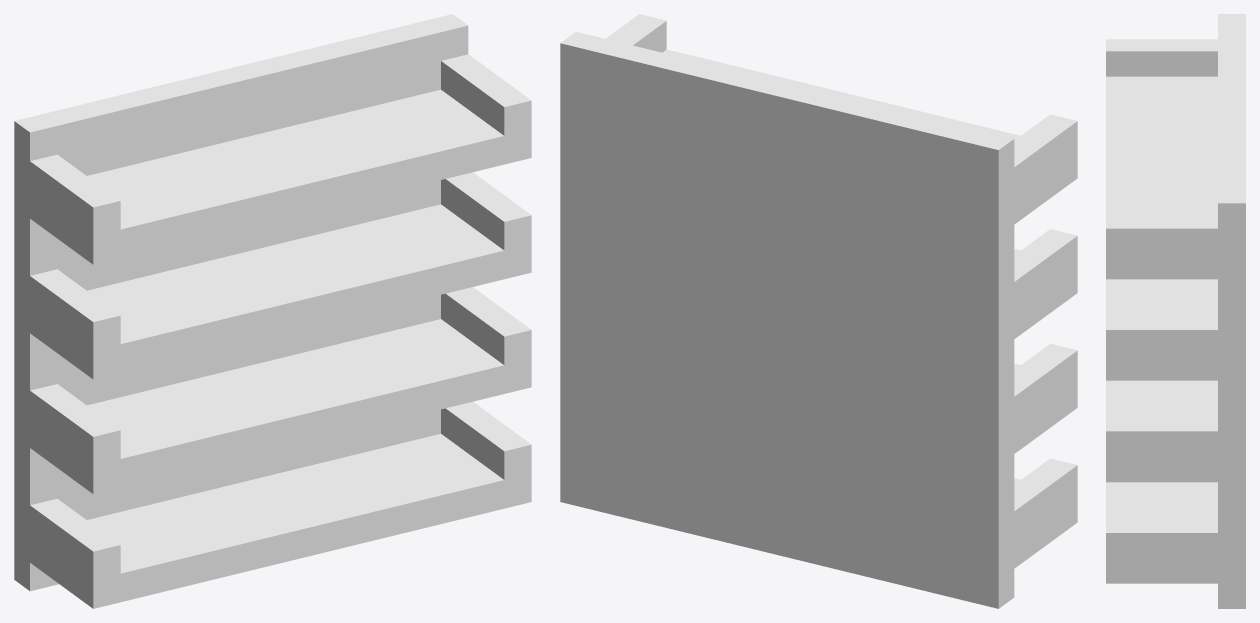
Rendered from Polka.dae.
3 views of the same model, side by side, from view 1: azimuth 30°, elevation 25°; view 2: azimuth 150°, elevation 25°; view 3: azimuth 270°, elevation 25° (orthographic). The views are drawn at different scales.
Visible parts, largest first — view 1: Polka; view 2: Polka; view 3: Polka.
Boxes of the visible parts, left/top/right/bottom form: Polka: left=14, top=14, right=531, bottom=608; Polka: left=560, top=14, right=1077, bottom=608; Polka: left=1106, top=14, right=1245, bottom=608.
Size of the model in its own units: 16 by 16 by 5.
Materials: 1 (1 with a texture image).
